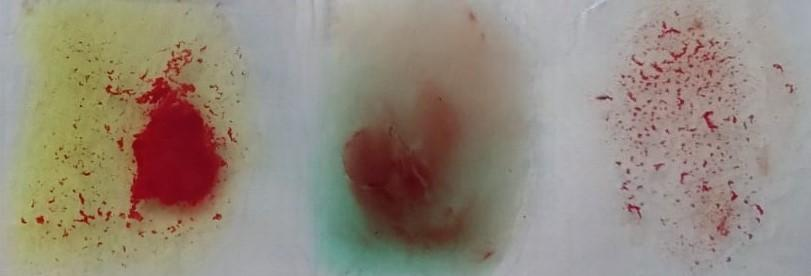B: (24, 3, 232, 276)
D: (604, 8, 768, 263)
